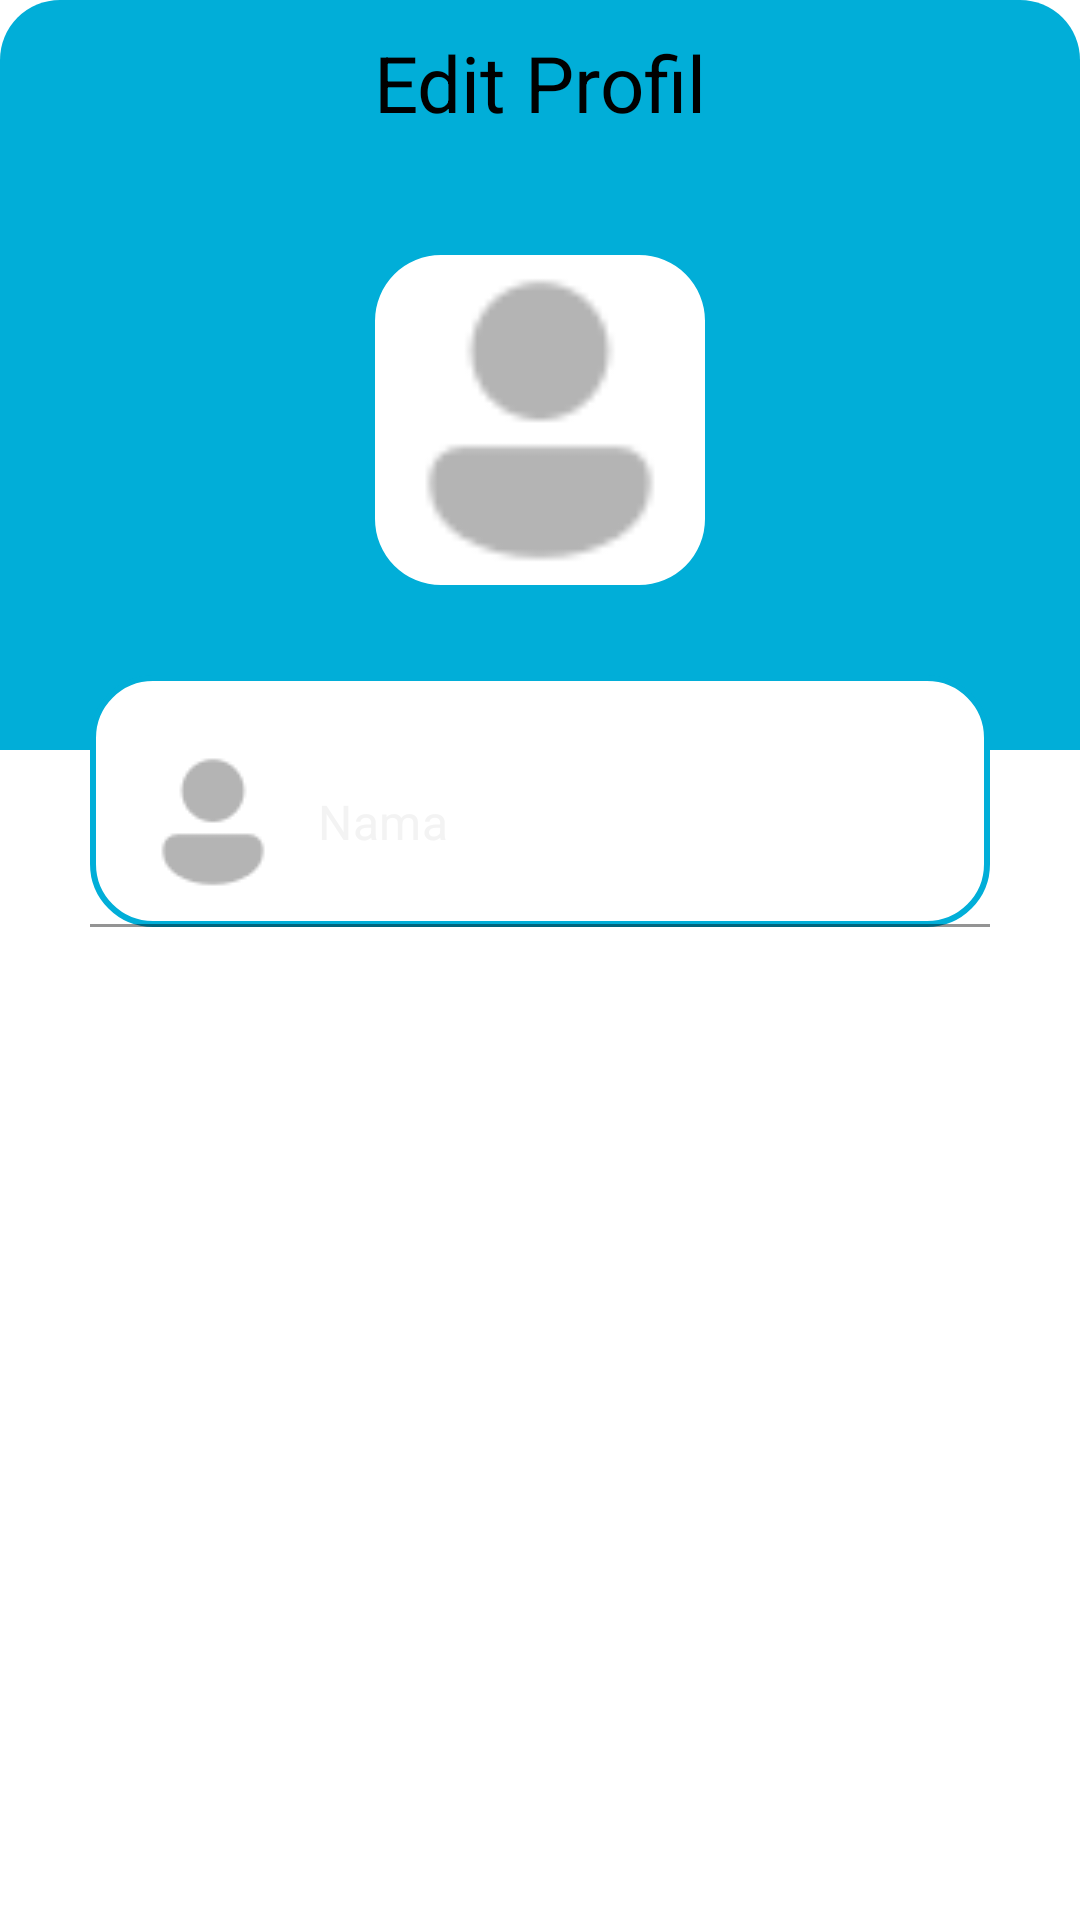

Icon click points for this 1080 × 1920 phone screenshot, format point (x, y):
profile: point (540, 420)
